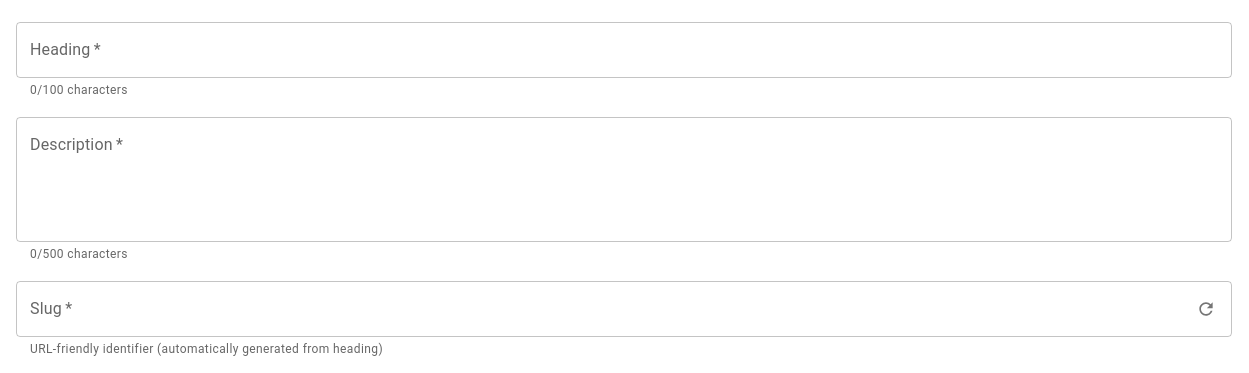
it: User Interactions › should auto-generate slug from heading
The width and height of the screenshot is (1249, 373).
Note: Type in the heading field
Step 1. Type "My Test Article" into the field with placeholder "Enter article heading" → (624, 50), box [16,22,1232,78]
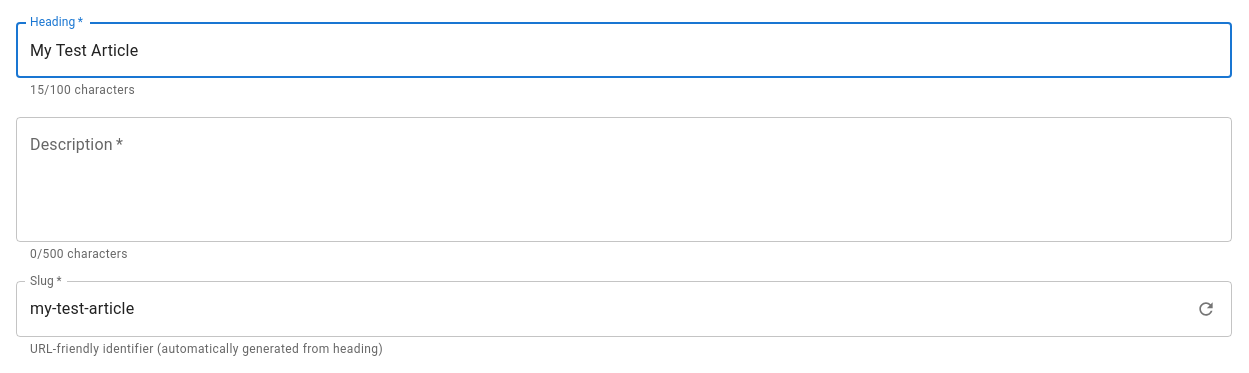
Expected: the field with placeholder "url-friendly-slug" holds "my-test-article", [16,281,1191,337]
